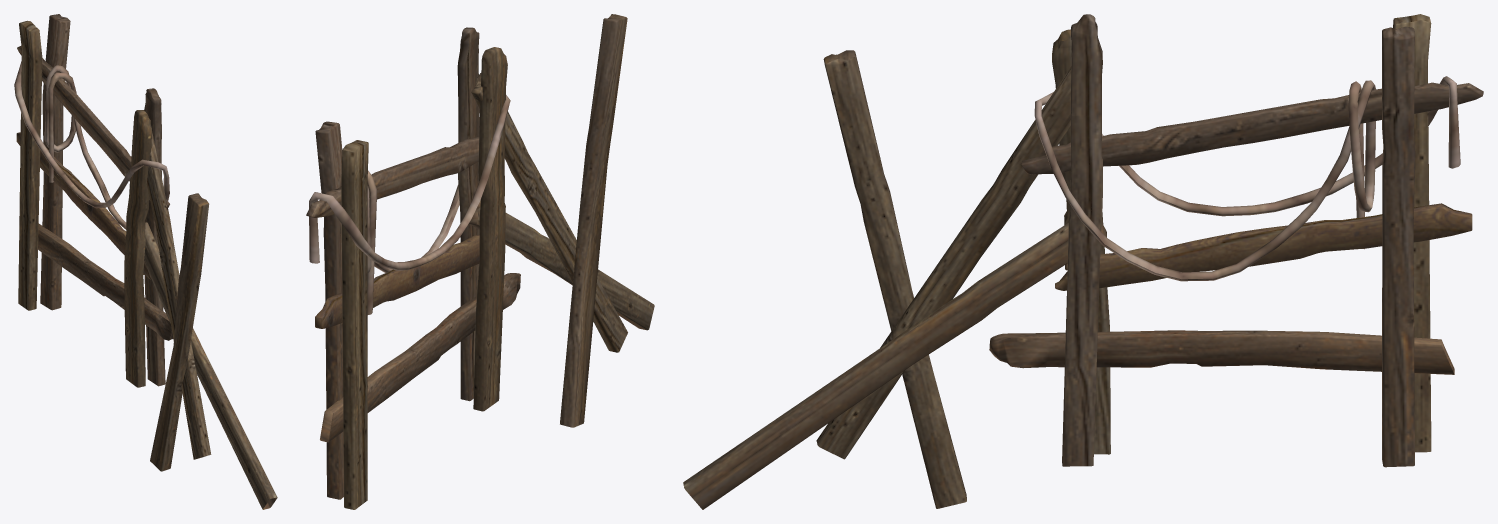
File: SM_FAR_WoodFence_01.fbx
The picture shows the model from 3 angles, left to right: view 1: azimuth 30°, elevation 25°; view 2: azimuth 150°, elevation 25°; view 3: azimuth 270°, elevation 25°; orthographic projection. The views are drawn at different scales.
Parts seen in each view (by area): view 1: SM_FAR_WoodFence_01.mo; view 2: SM_FAR_WoodFence_01.mo; view 3: SM_FAR_WoodFence_01.mo.
Boxes of the visible parts, bbox=[...] form: SM_FAR_WoodFence_01.mo: bbox=[14, 14, 277, 509]; SM_FAR_WoodFence_01.mo: bbox=[306, 14, 654, 509]; SM_FAR_WoodFence_01.mo: bbox=[683, 14, 1483, 509].
Bounding box in the file's own units: 43.74 × 245 × 344.
